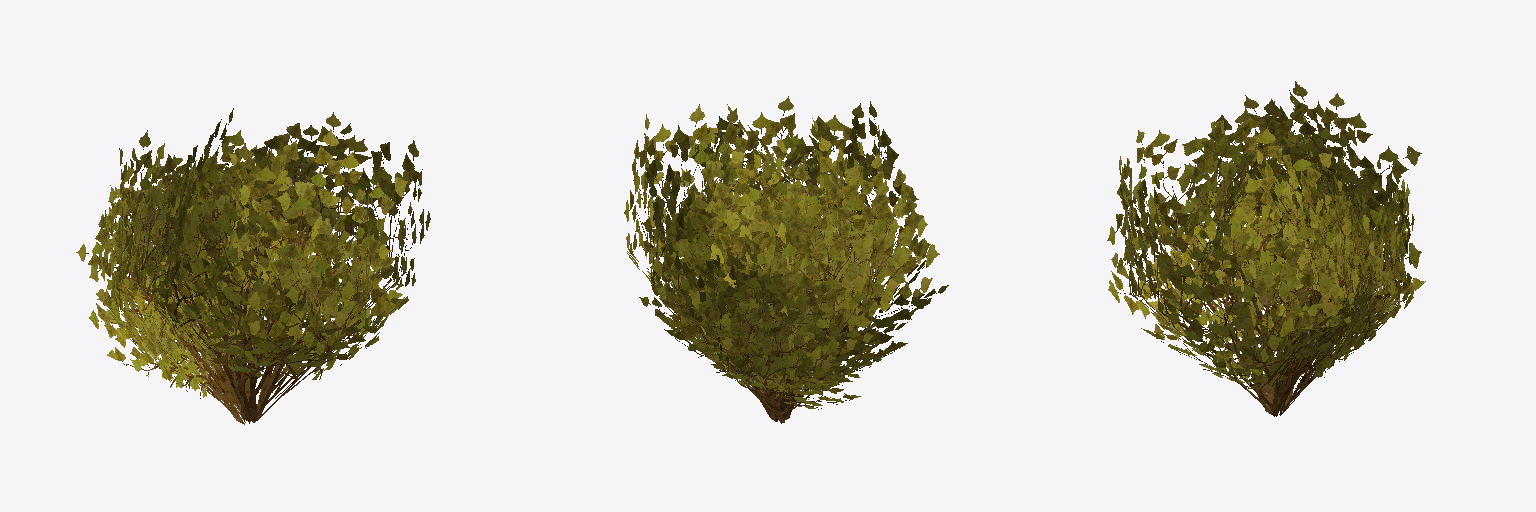
The picture shows the model from 3 angles: view 1: azimuth 30°, elevation 25°; view 2: azimuth 150°, elevation 25°; view 3: azimuth 270°, elevation 25°; orthographic projection.
Parts seen in each view (by area): view 1: bush_Buisson_02_Atlas; view 2: bush_Buisson_02_Atlas; view 3: bush_Buisson_02_Atlas.
Part boxes in pixels (left/top/right/bottom): bush_Buisson_02_Atlas: left=76, top=108, right=430, bottom=424; bush_Buisson_02_Atlas: left=624, top=96, right=948, bottom=423; bush_Buisson_02_Atlas: left=1107, top=81, right=1425, bottom=416.
Bounding box in the file's own units: 1.85 × 1.52 × 1.72.
1 materials, 1 textured.